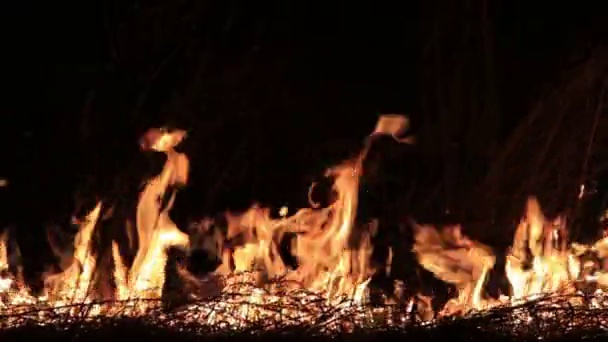fire: (195, 159, 372, 331), (108, 130, 191, 314), (506, 197, 608, 325), (1, 203, 104, 317), (406, 220, 497, 326), (374, 113, 408, 138)
